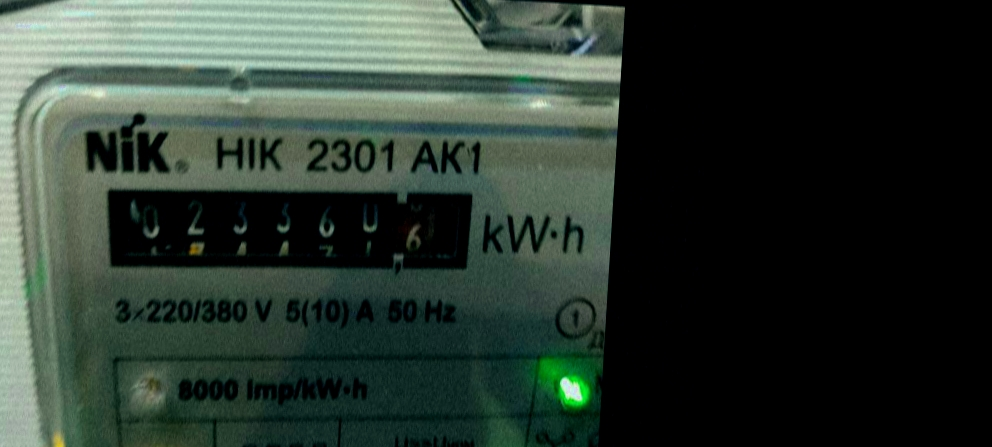0: (135, 197, 162, 241), (356, 196, 381, 234)
2: (179, 194, 208, 236)
3: (226, 195, 250, 236), (268, 196, 293, 235)
6: (310, 198, 339, 241), (401, 218, 425, 255)
screen: (79, 155, 486, 297)
